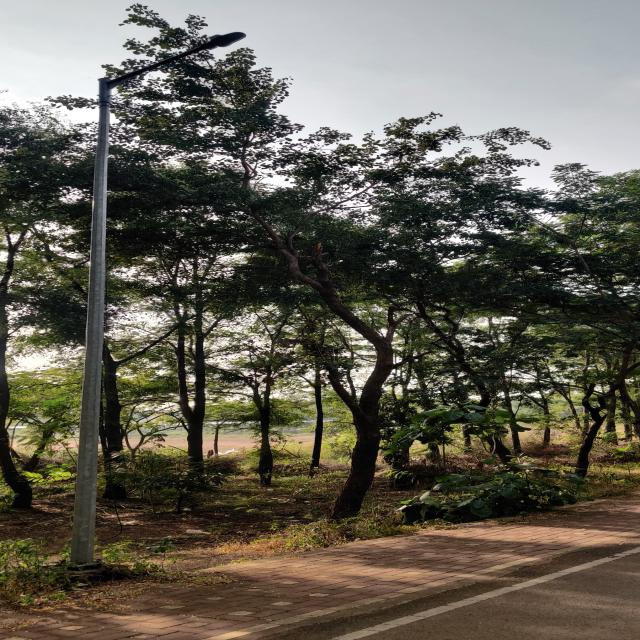Devakanchan tree: (107, 6, 436, 333)
